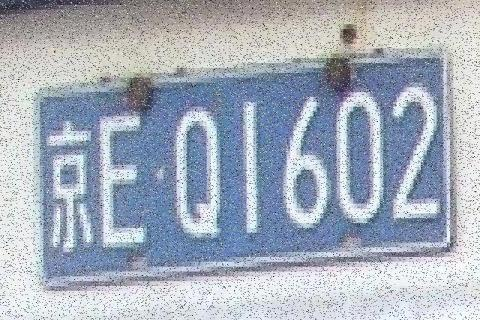LicensePlate: (22, 29, 466, 302)
